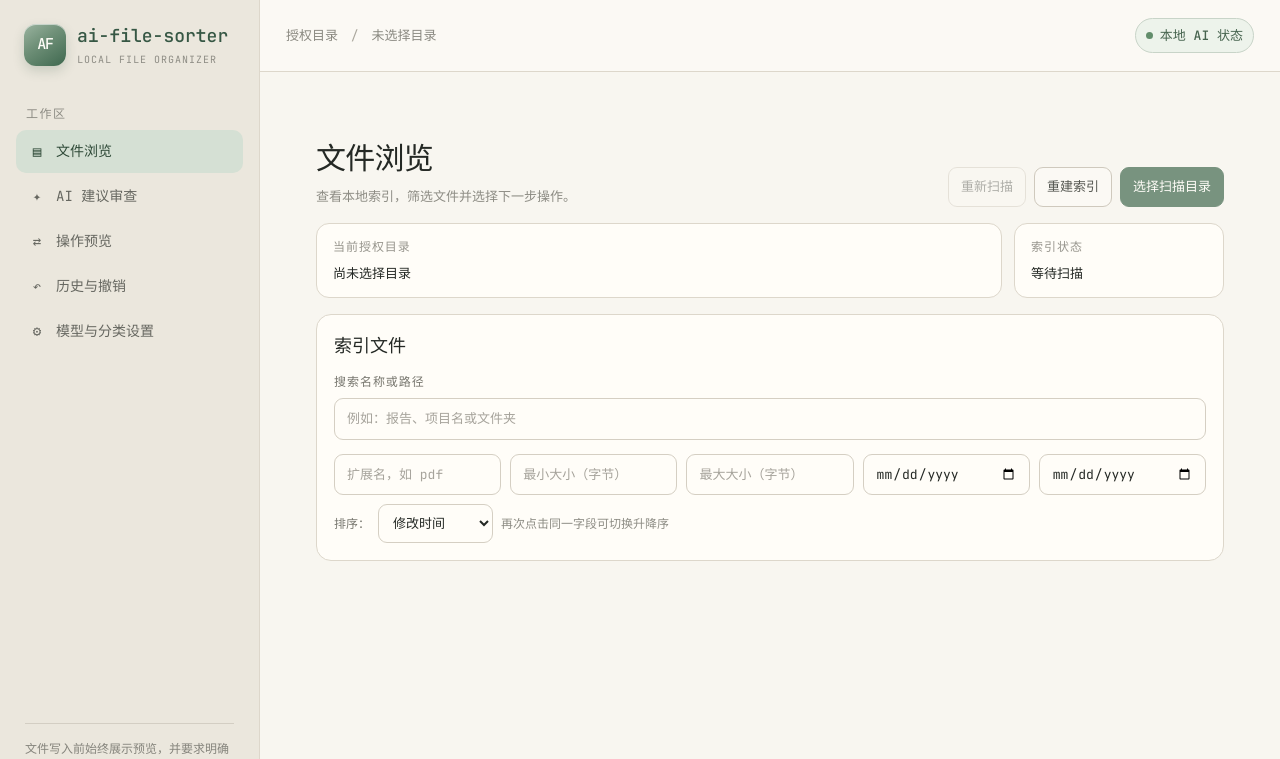
App › opens template settings from the workspace navigation after authorization
The image size is (1280, 759).
Click the button "选择扫描目录" at (1172, 187), box [1120,167,1224,206]
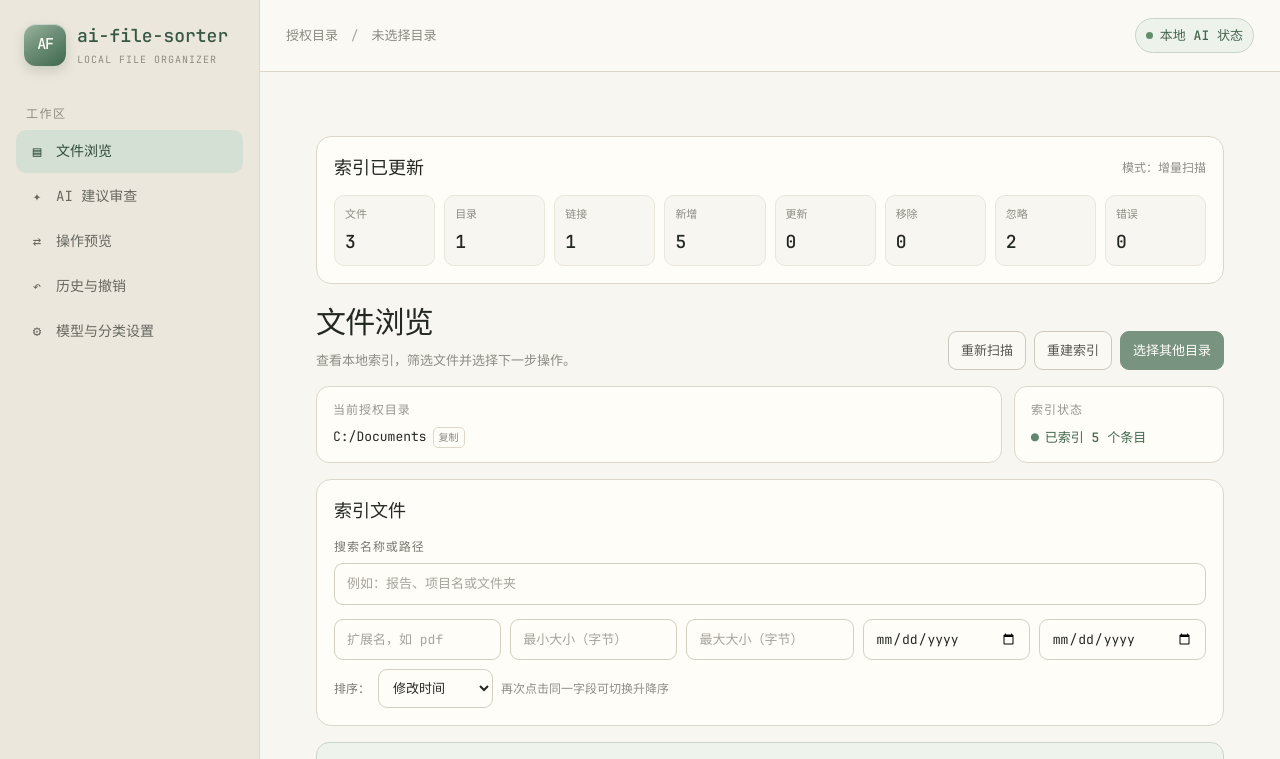
Expected: the text "C:/Documents" is shown, [333,428,427,447]
Click the button "⚙ 模型与分类设置" at (130, 332), box [16,310,243,353]
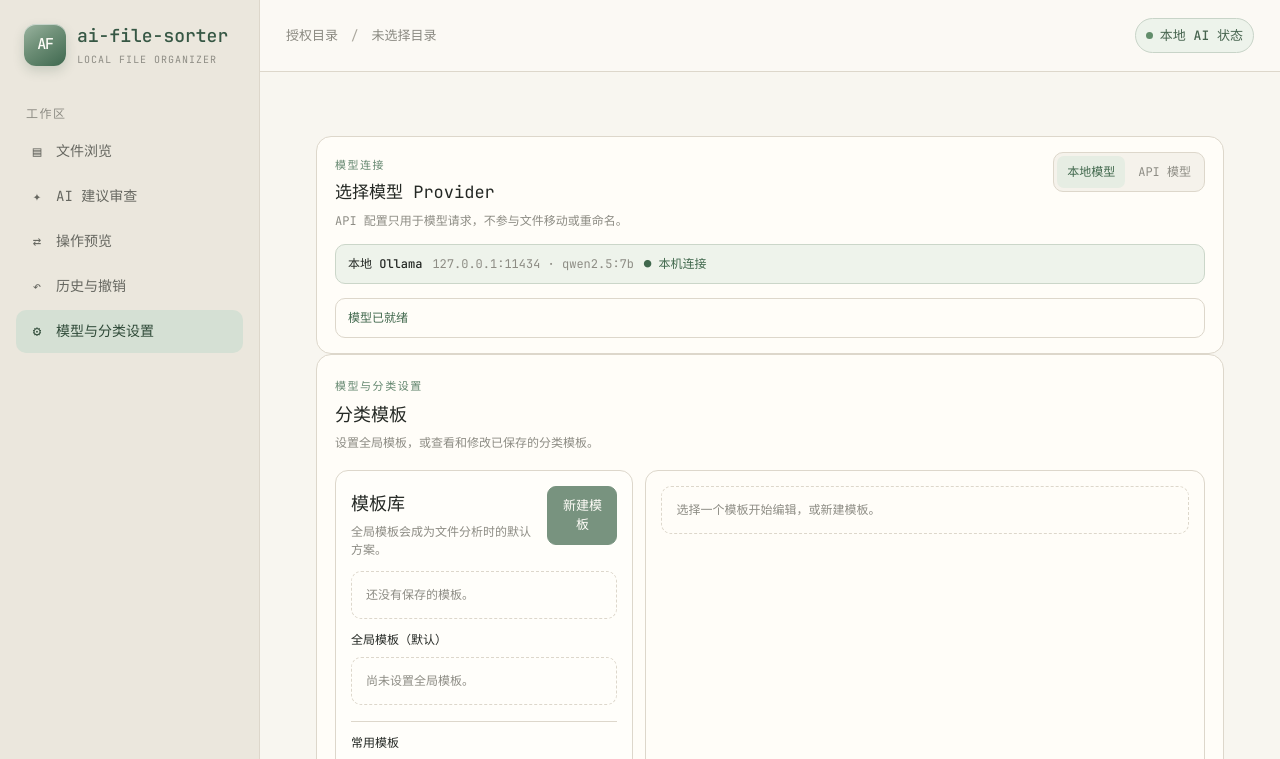
Expected: the heading "分类模板" is shown, [335,402,407,426]
